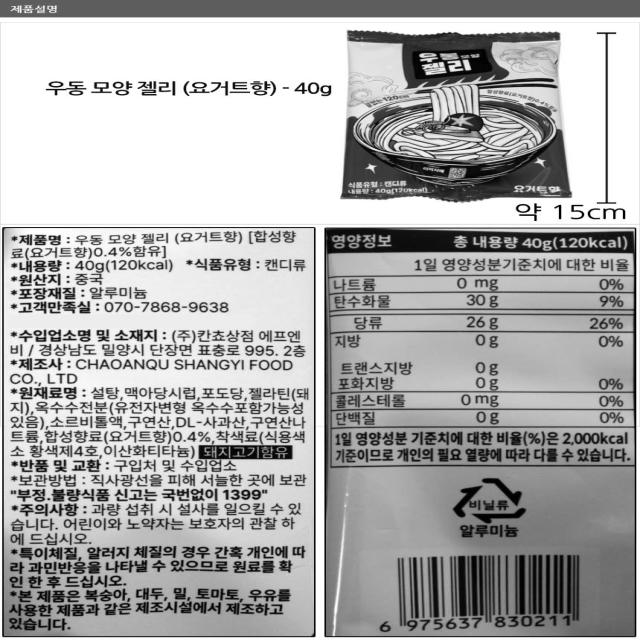Nutrition Label: (317, 221, 640, 470)
